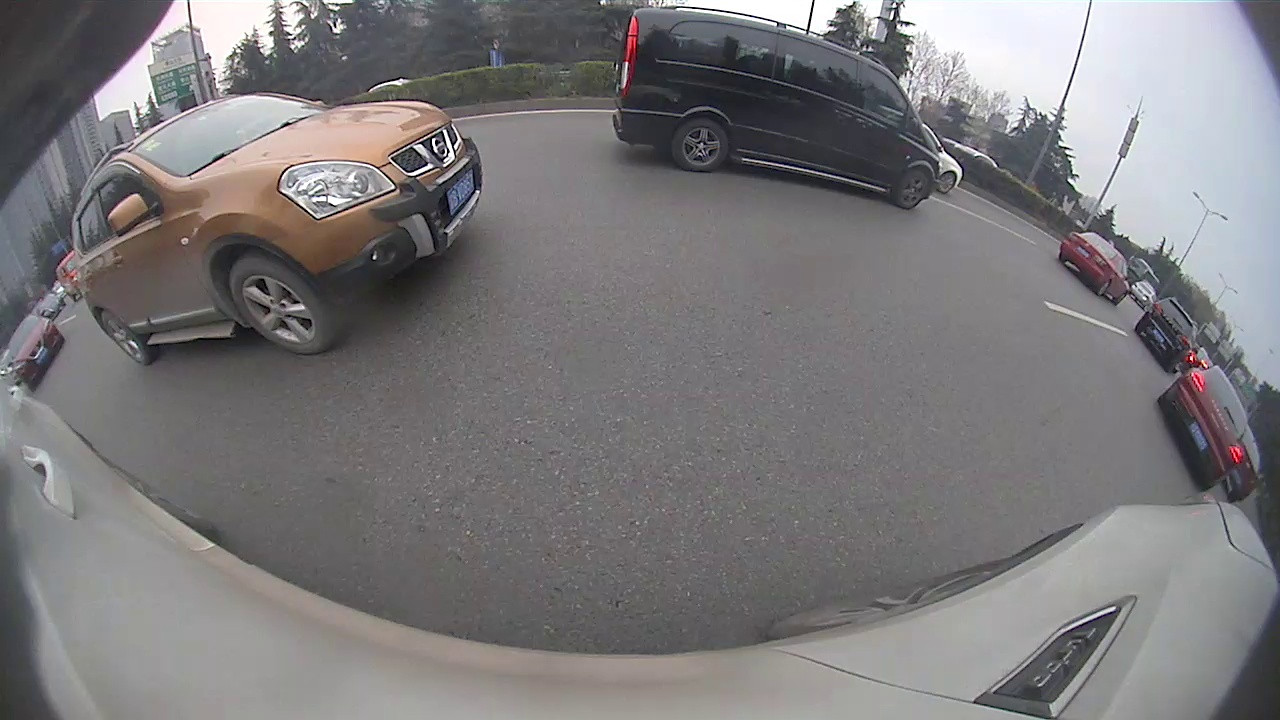car: (68, 93, 484, 366), (611, 6, 937, 210), (1155, 366, 1262, 492), (1134, 294, 1201, 376), (1062, 227, 1128, 307), (9, 315, 63, 395), (1132, 281, 1159, 312)
front: (232, 251, 337, 357), (892, 166, 932, 206)
rear: (96, 308, 151, 367), (671, 120, 729, 172)
